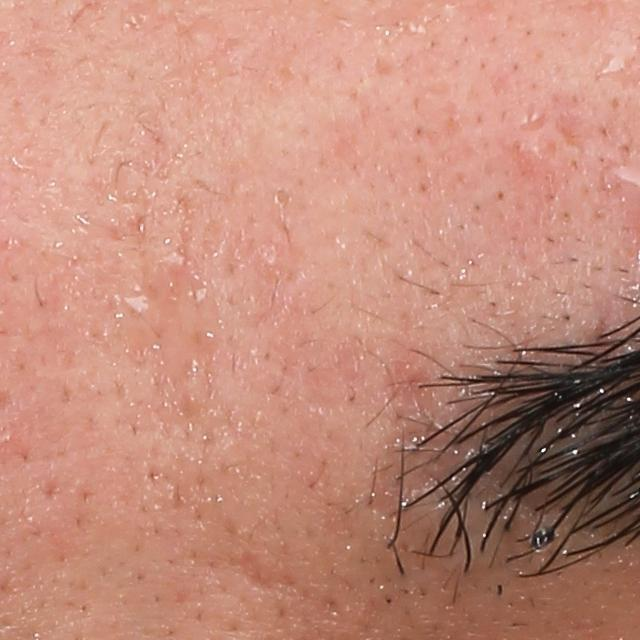atrophic_scar: (239, 549, 285, 594)
comedo: (268, 186, 293, 210)
